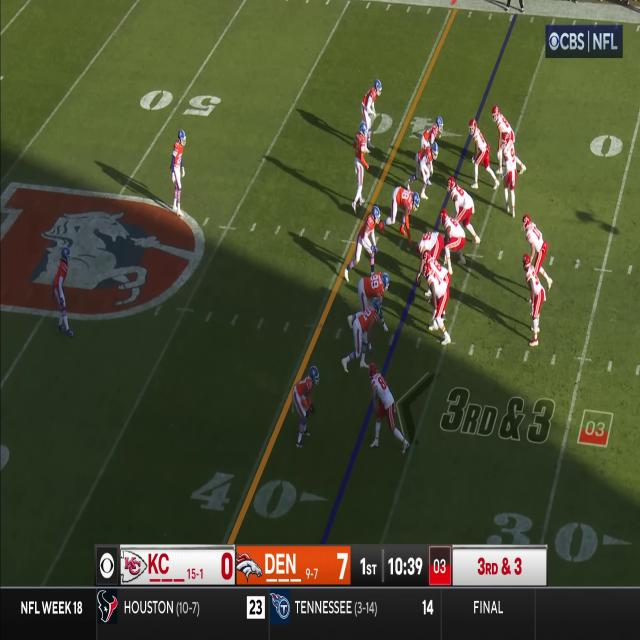Player: (368, 363, 397, 457), (344, 297, 382, 368), (292, 364, 321, 451), (424, 262, 453, 348), (469, 118, 498, 190), (52, 246, 74, 340), (522, 253, 544, 347), (405, 141, 439, 193), (357, 205, 380, 275), (170, 128, 188, 217), (440, 207, 465, 270), (384, 187, 420, 230), (352, 124, 369, 215), (362, 78, 383, 148), (521, 212, 549, 262), (447, 177, 475, 225), (501, 132, 516, 218), (357, 270, 390, 306), (416, 231, 442, 260), (424, 251, 448, 279), (420, 116, 443, 144), (492, 106, 514, 134)
